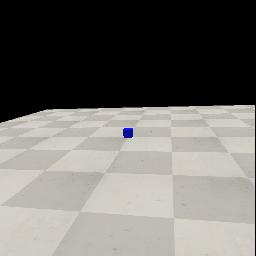box: (123, 128, 133, 138)
